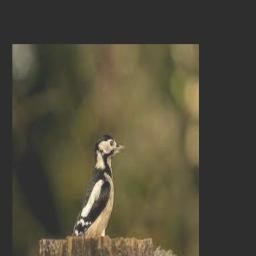Woodpecker: (72, 135, 126, 237)
